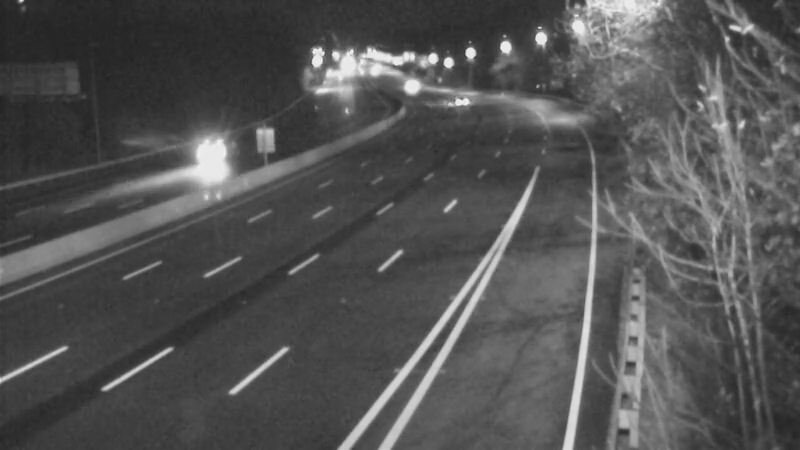vehicle: (377, 56, 427, 106), (418, 74, 468, 124), (186, 124, 236, 174)
